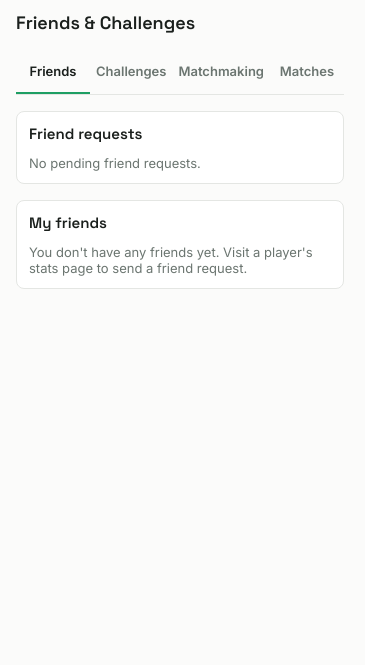
FriendsScreen › S-218: selecting the "Matches" tab shows the matches list, and opening one shows its detail with a way back
The width and height of the screenshot is (365, 665).
Check: the text "No pending friend requests." is shown, box [29,155,201,171]
Click the tab "Matches": (307, 72) [270,50,344,94]
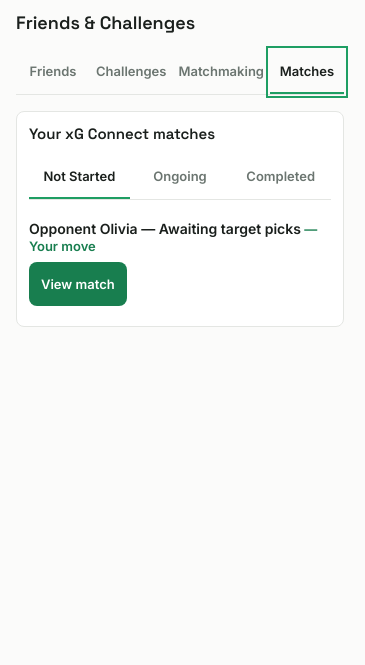
Check: the text "Opponent Olivia — Awaiting target picks — Your move" is shown, box [29,220,331,254]
Click the button "View match": (78, 284) [29,262,127,306]
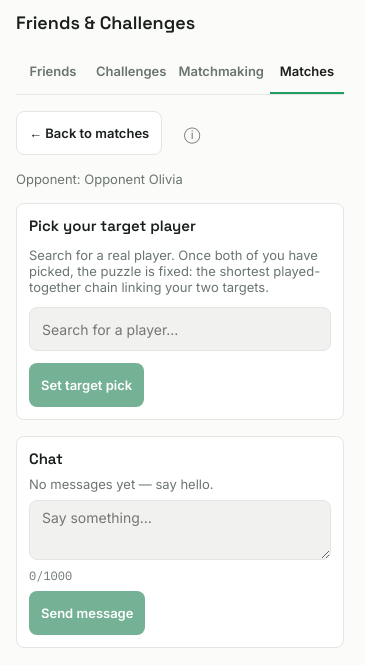
Check: the text "Opponent: Opponent Olivia" is shown, box [16,171,183,187]
Click the button "← Back to matches": (89, 133) [16,111,162,155]
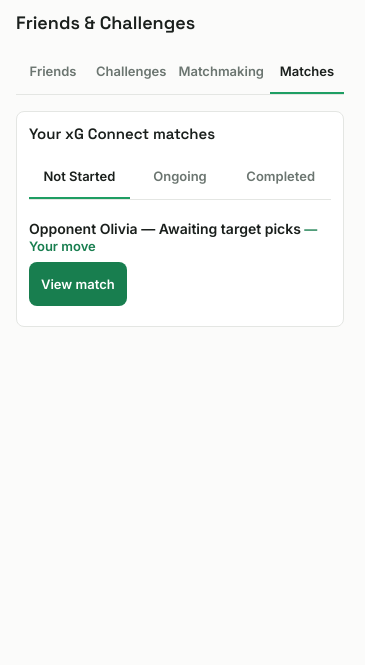
Check: the text "Opponent Olivia — Awaiting target picks — Your move" is shown, box [29,220,331,254]
Check: the text "Opponent: Opponent Olivia" is gone
